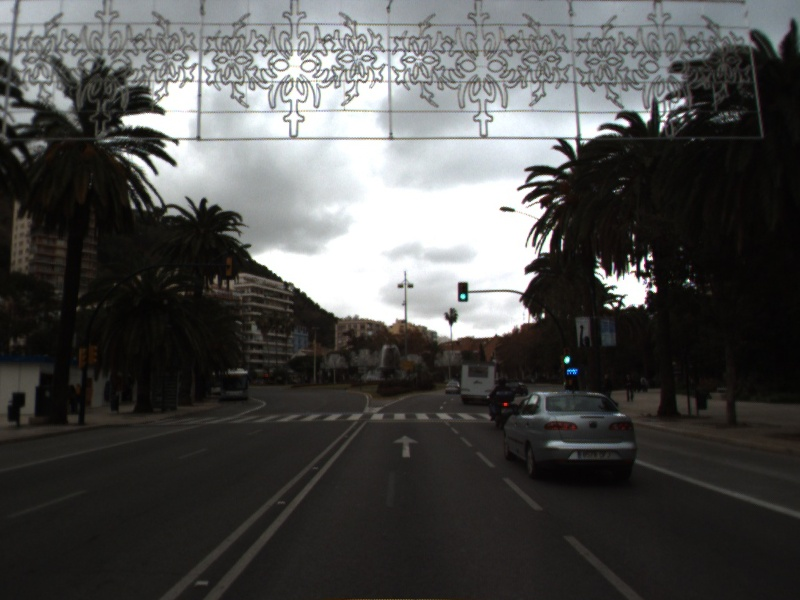STRAIGHT: (390, 433, 421, 460)
